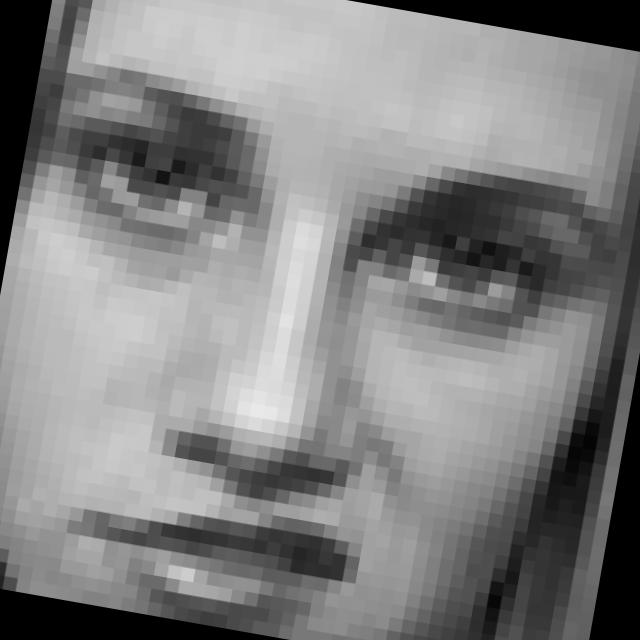disgust: (0, 61, 602, 640)
